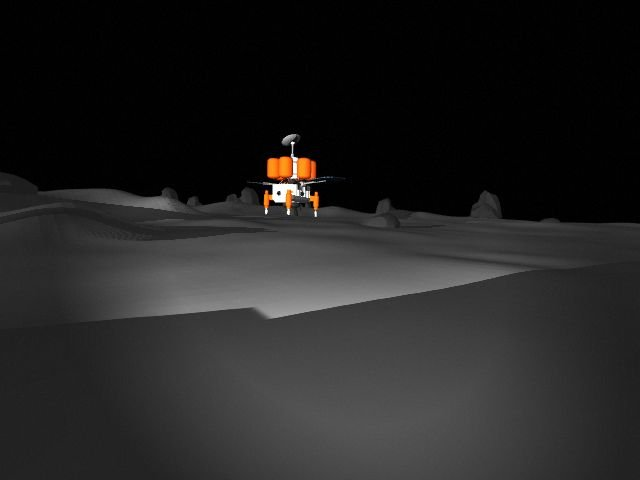homebase: (235, 131, 347, 220)
